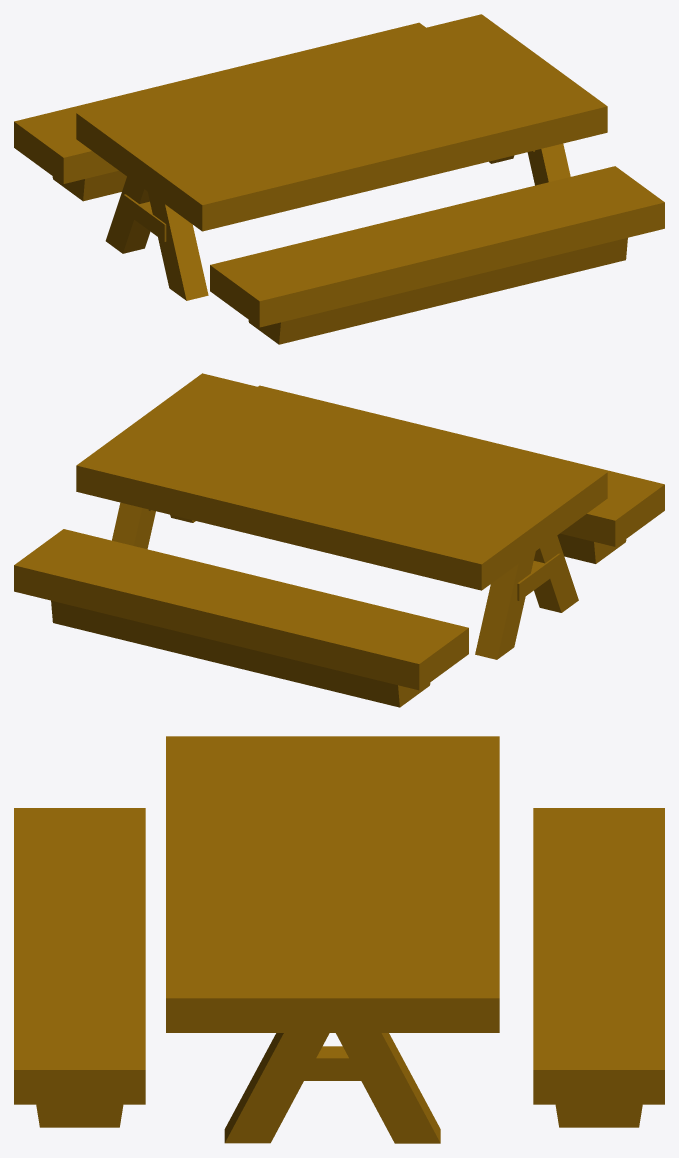
Rendered from mesaRetangular.fbx.
3 renders of one model, top to bottom at view 1: azimuth 30°, elevation 25°; view 2: azimuth 150°, elevation 25°; view 3: azimuth 270°, elevation 25°, orthographic. The views are drawn at different scales.
Visible parts, largest first — view 1: mesaRet, BancoLargo, BancoLargo.001; view 2: mesaRet, BancoLargo.001, BancoLargo; view 3: mesaRet, BancoLargo, BancoLargo.001.
Part boxes in pixels (box(x1,y1,x2,y2)): mesaRet: box(76, 14, 607, 300); BancoLargo: box(210, 166, 664, 344); BancoLargo.001: box(14, 22, 425, 201); mesaRet: box(76, 373, 607, 659); BancoLargo.001: box(14, 529, 468, 707); BancoLargo: box(258, 385, 664, 563); mesaRet: box(166, 736, 499, 1143); BancoLargo: box(14, 808, 145, 1127); BancoLargo.001: box(533, 808, 664, 1127).
Bounding box in the file's own units: 215 × 57.53 × 226.
